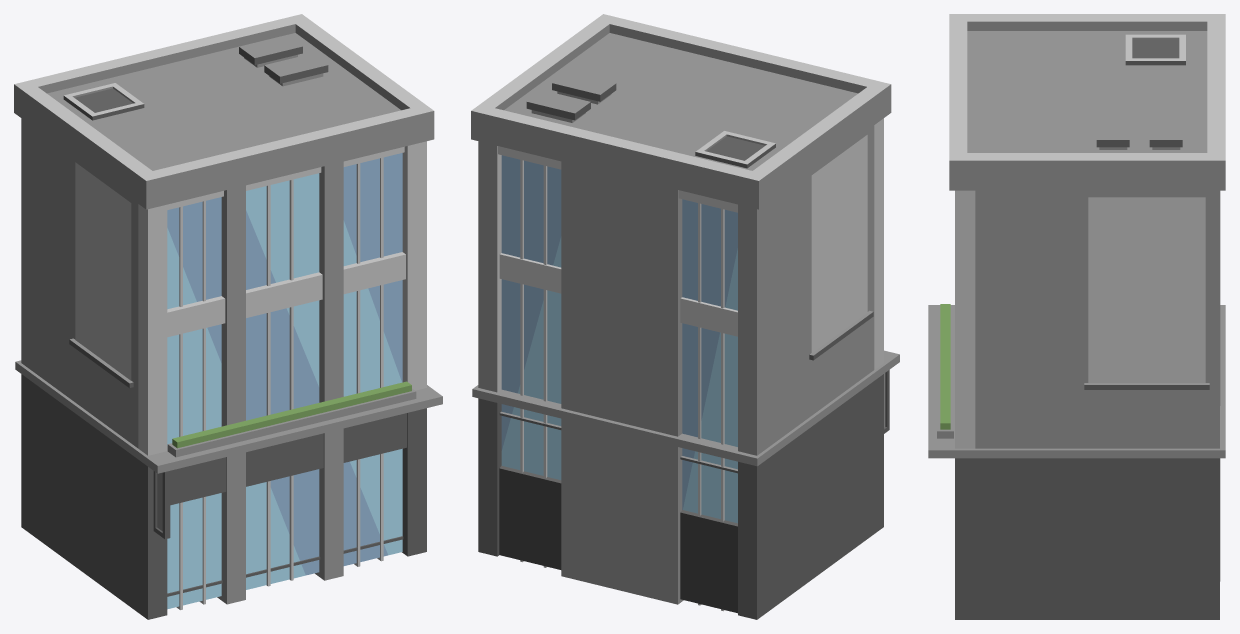
File: hotel_006.fbx
3 views of the same model, side by side, from view 1: azimuth 30°, elevation 25°; view 2: azimuth 150°, elevation 25°; view 3: azimuth 270°, elevation 25° (orthographic). The views are drawn at different scales.
Parts seen in each view (by area): view 1: hotel_006; view 2: hotel_006; view 3: hotel_006.
Boxes of the visible parts, left/top/right/bottom form: hotel_006: left=14, top=14, right=442, bottom=619; hotel_006: left=471, top=14, right=899, bottom=619; hotel_006: left=928, top=14, right=1225, bottom=619.
Bounding box in the file's own units: 597 × 889 × 511.
